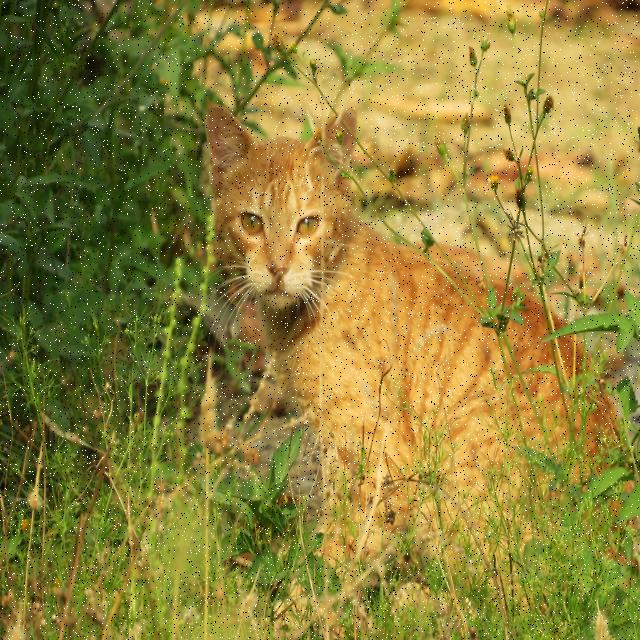cat: (205, 105, 584, 552)
